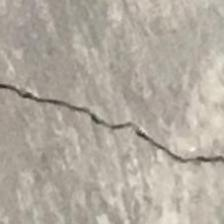Crack: (0, 58, 224, 181)
